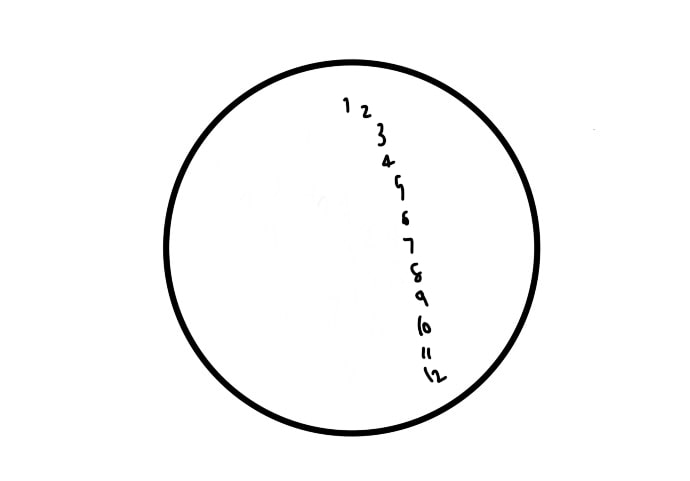eight: (409, 259, 425, 286)
eleven: (418, 345, 435, 364)
five: (391, 169, 406, 202)
four: (381, 151, 396, 173)
nine: (415, 288, 431, 308)
one: (341, 95, 352, 116)
seven: (400, 234, 419, 254)
six: (400, 206, 413, 228)
ten: (415, 314, 435, 339)
three: (372, 121, 390, 146)
twelve: (420, 364, 448, 384)
two: (359, 102, 372, 120)
